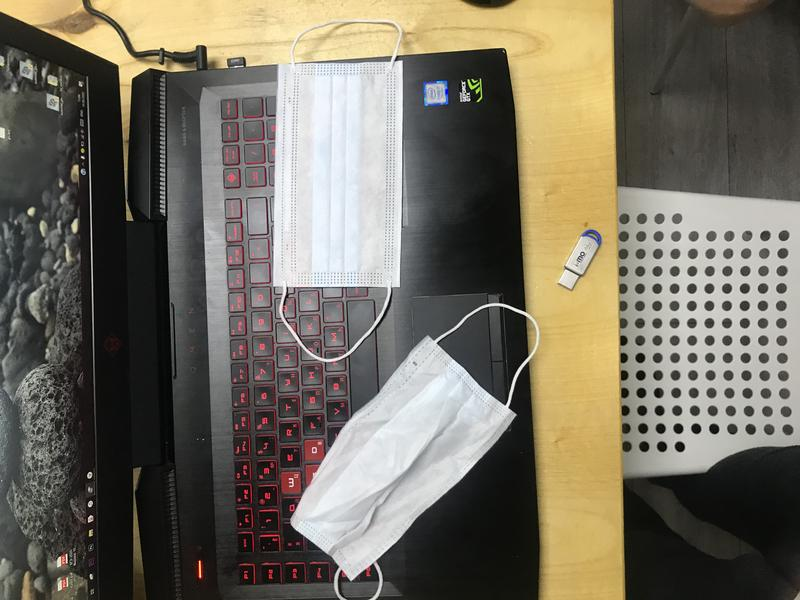medical_mask: (290, 303, 540, 600), (269, 18, 398, 360)
